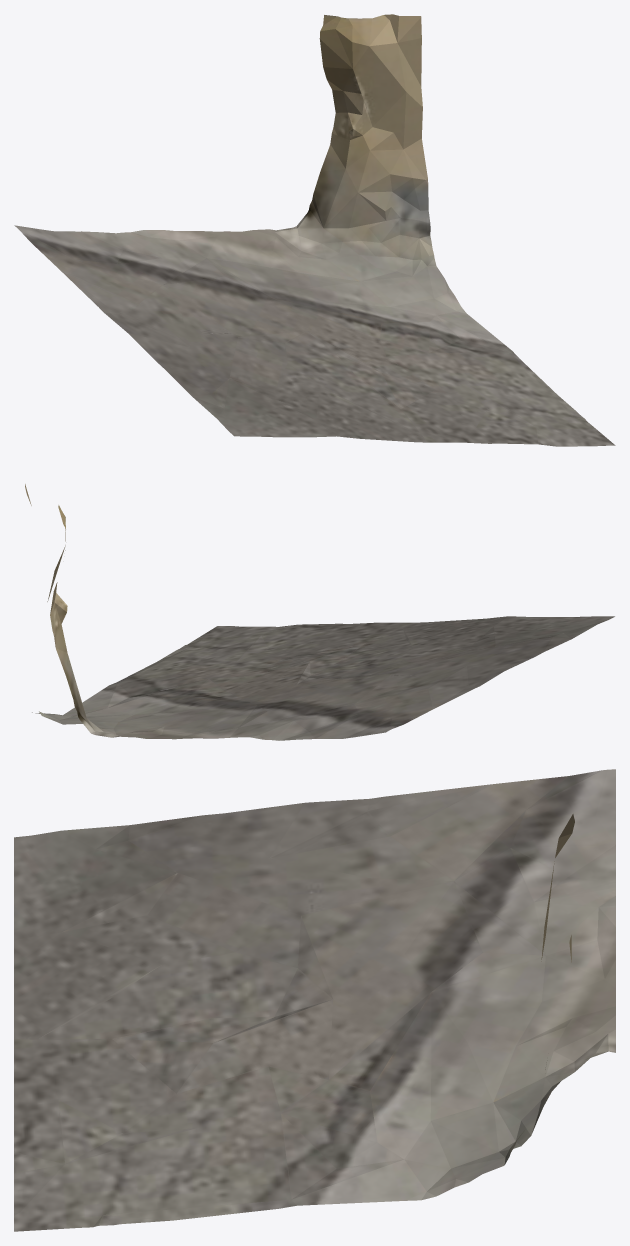
3 renders of one model, top to bottom at view 1: azimuth 30°, elevation 25°; view 2: azimuth 150°, elevation 25°; view 3: azimuth 270°, elevation 25°, orthographic. The views are drawn at different scales.
Bounding box in the file's own units: 1.67 × 1.2 × 1.67.
Materials: 3 (3 with a texture image).
